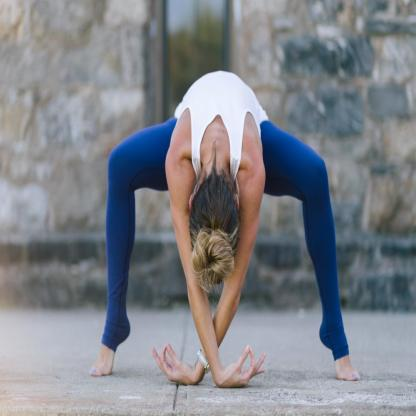godness: (86, 63, 363, 387)
